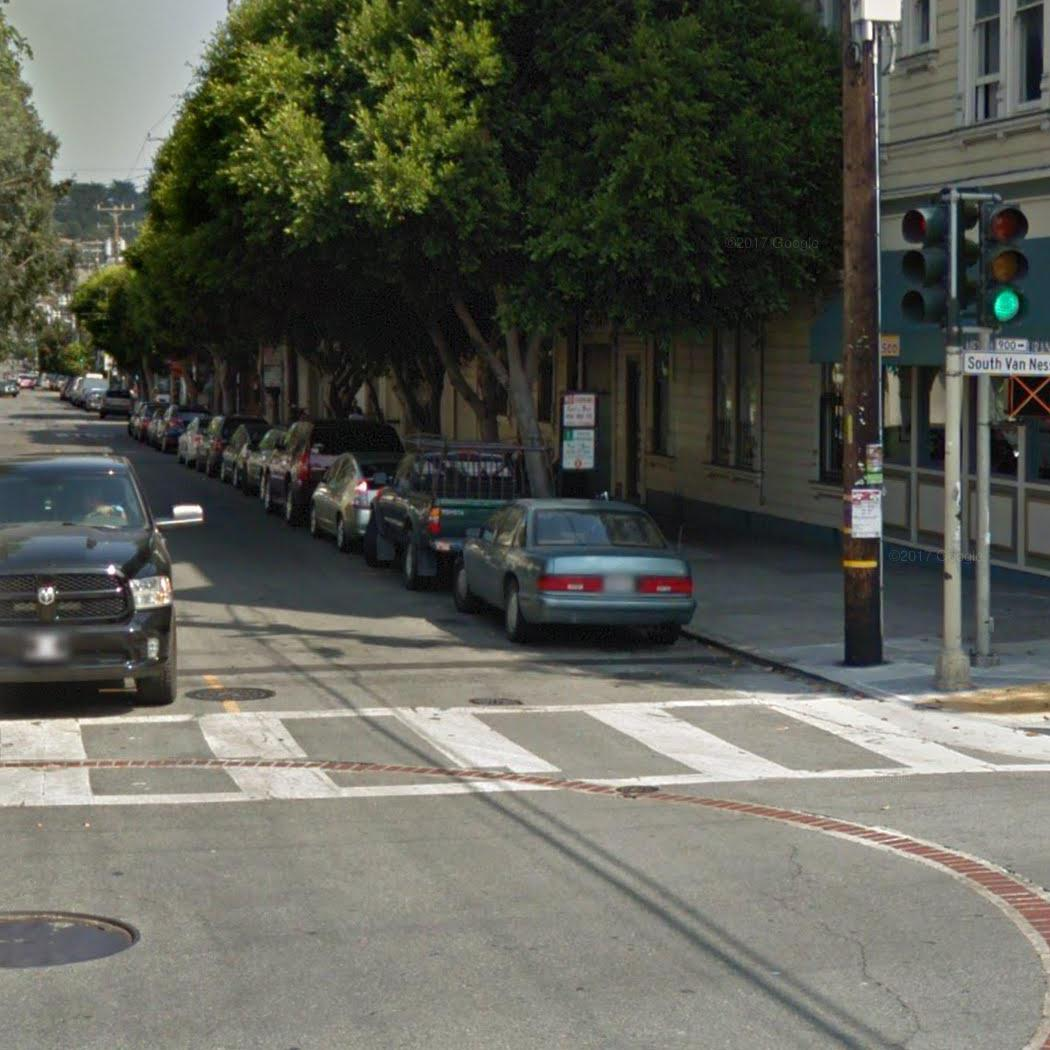1 Hour Parking: (560, 427, 596, 471)
No Parking: (561, 392, 596, 428)
